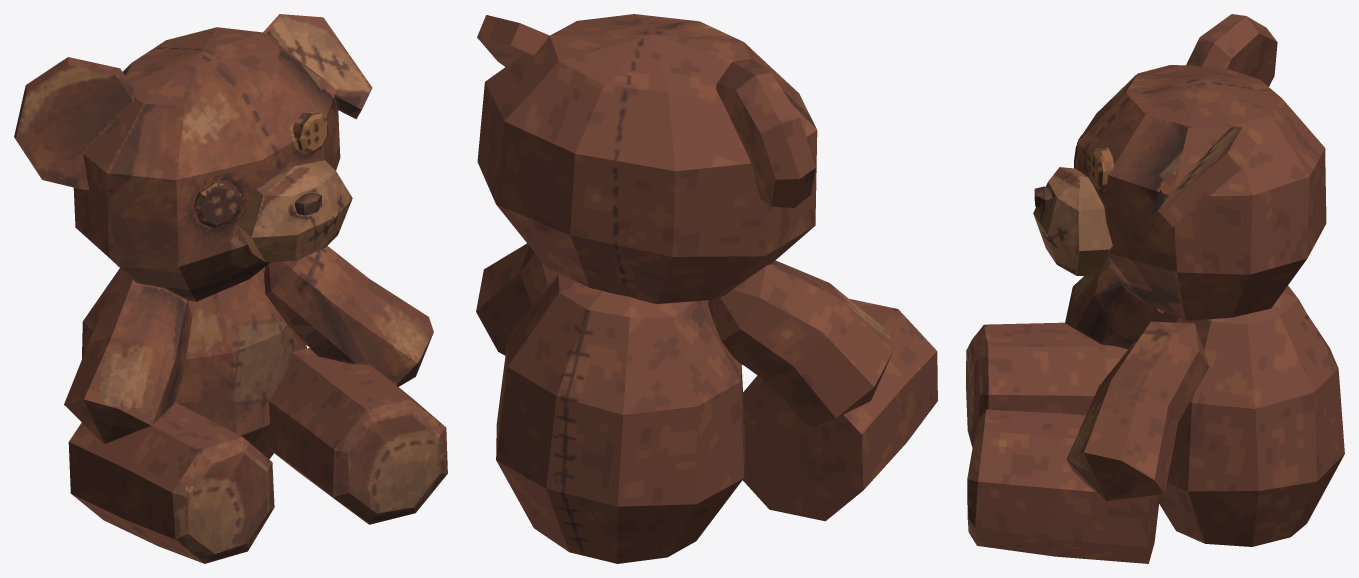
The model's file is CI13_StrangeTeddy.fbx.
The picture shows the model from 3 angles, left to right: view 1: azimuth 30°, elevation 25°; view 2: azimuth 150°, elevation 25°; view 3: azimuth 270°, elevation 25°; orthographic projection. The views are drawn at different scales.
Parts seen in each view (by area): view 1: CI13_StrangeTeddy; view 2: CI13_StrangeTeddy; view 3: CI13_StrangeTeddy.
Part boxes in pixels (x1,y1,x2,y2): CI13_StrangeTeddy: [14, 14, 447, 563]; CI13_StrangeTeddy: [476, 14, 937, 563]; CI13_StrangeTeddy: [966, 14, 1344, 563].
Size of the model in its own units: 0.1701 by 0.2084 by 0.1541.
Materials: 1 (1 with a texture image).
